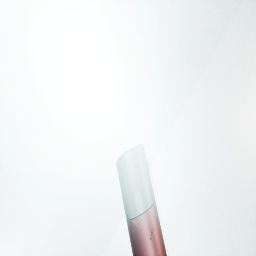NitrogenTank ,: (116, 144, 167, 256)
